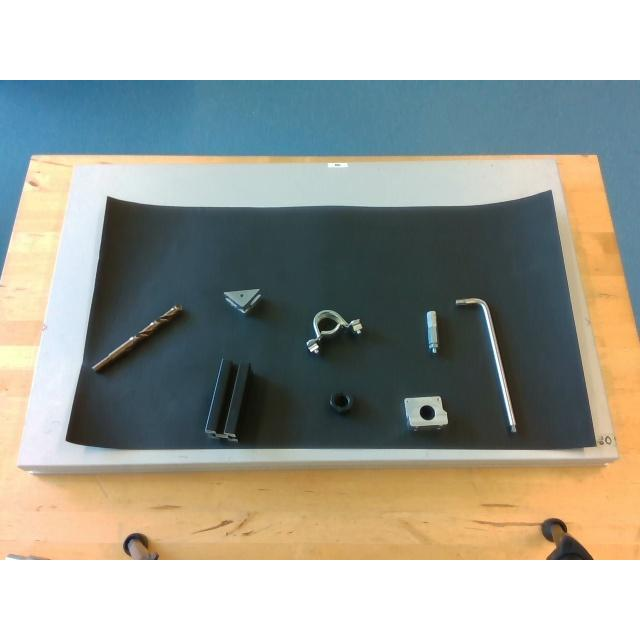AllenKey: (455, 298, 517, 432)
Drill: (93, 304, 183, 372)
Housing: (306, 309, 362, 351)
M20: (329, 391, 353, 411)
S40_40_B: (204, 359, 248, 439)
